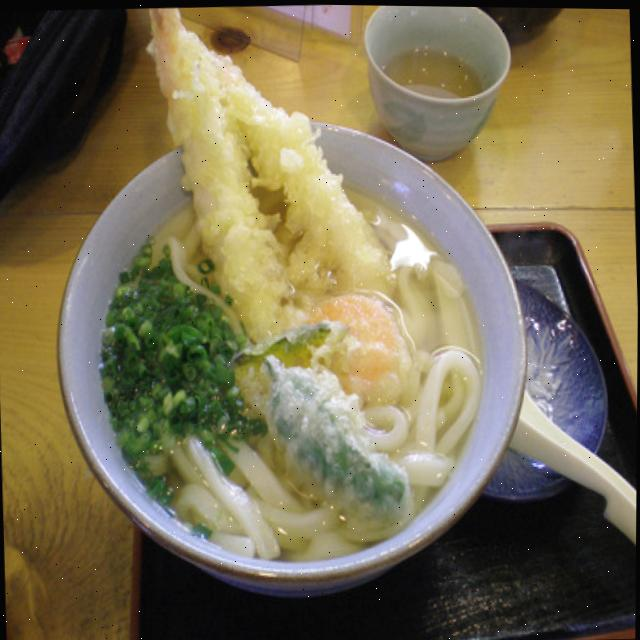面条主食: (85, 1, 485, 568)
